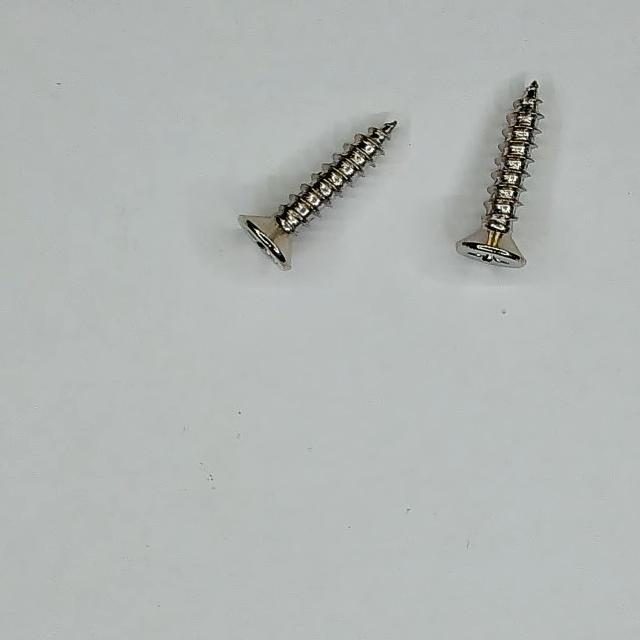Screw: (239, 121, 398, 270), (457, 81, 544, 268)
